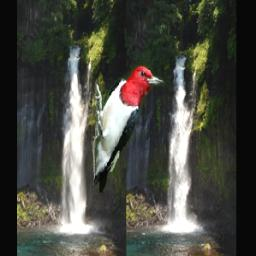Woodpecker: (92, 66, 167, 194)
